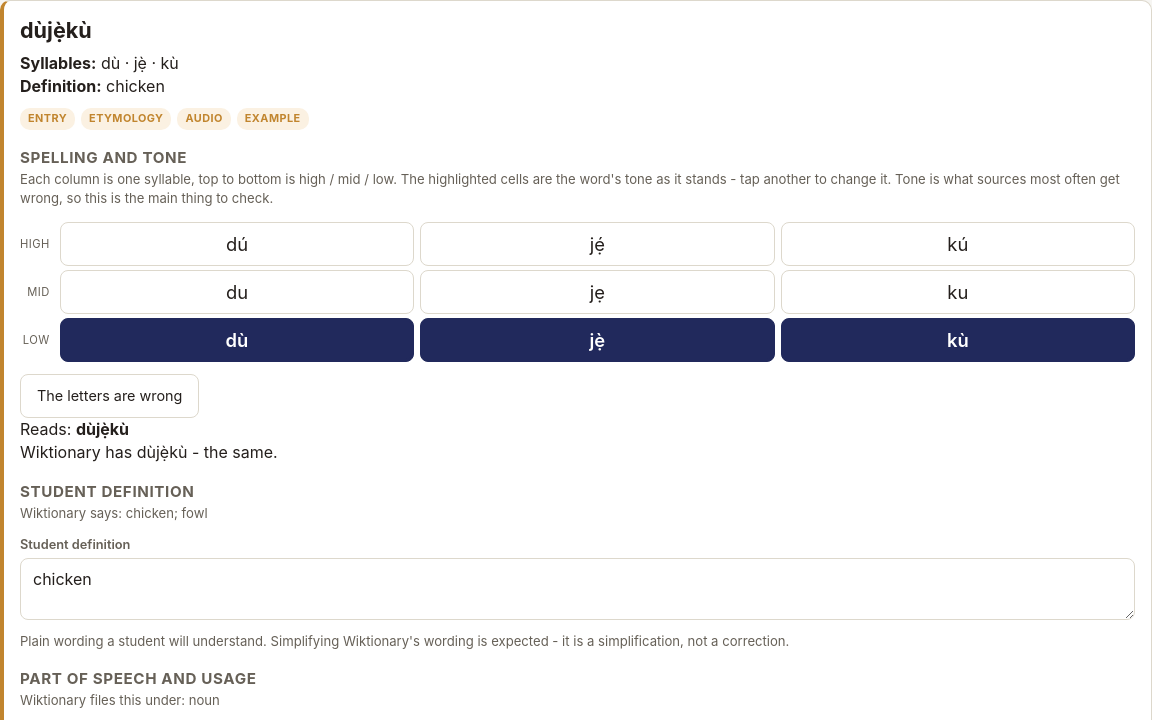
Test: the comparison line says WHICH kind of difference it is › says so when the reviewer has deviated from the record, and from what
Expected: the element named "Tone editor" is shown, [20, 170, 1135, 418]
Expected: the field labelled "Changed from" is not shown
Click the button with aria-label "Syllable 2 high tone": (597, 244) [420, 222, 775, 266]
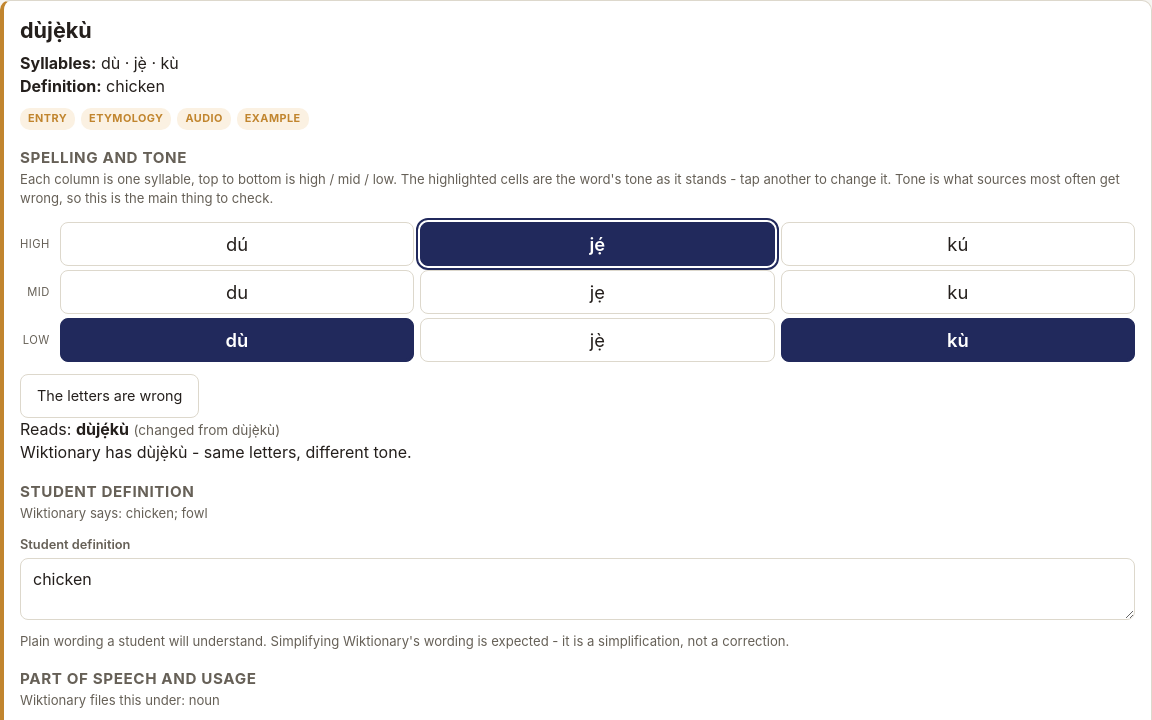
Result: the text labelled "changed from" shows "changed from dùjẹ̀kù" at [134, 422, 280, 438]
